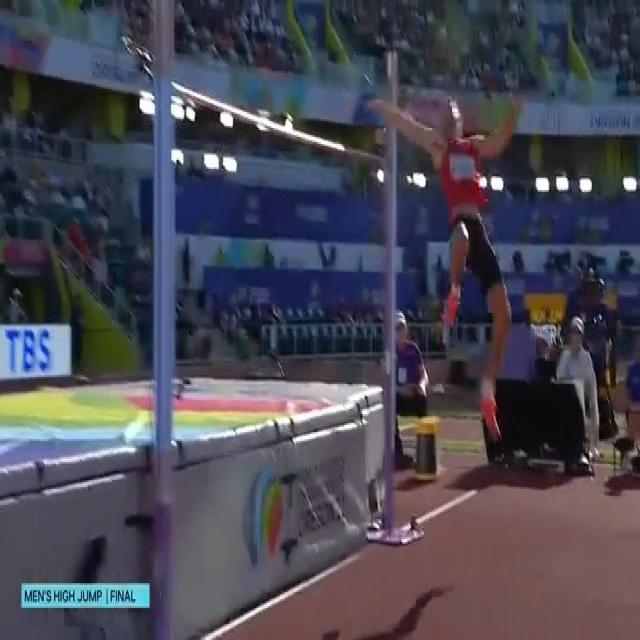jump: (366, 85, 520, 446)
